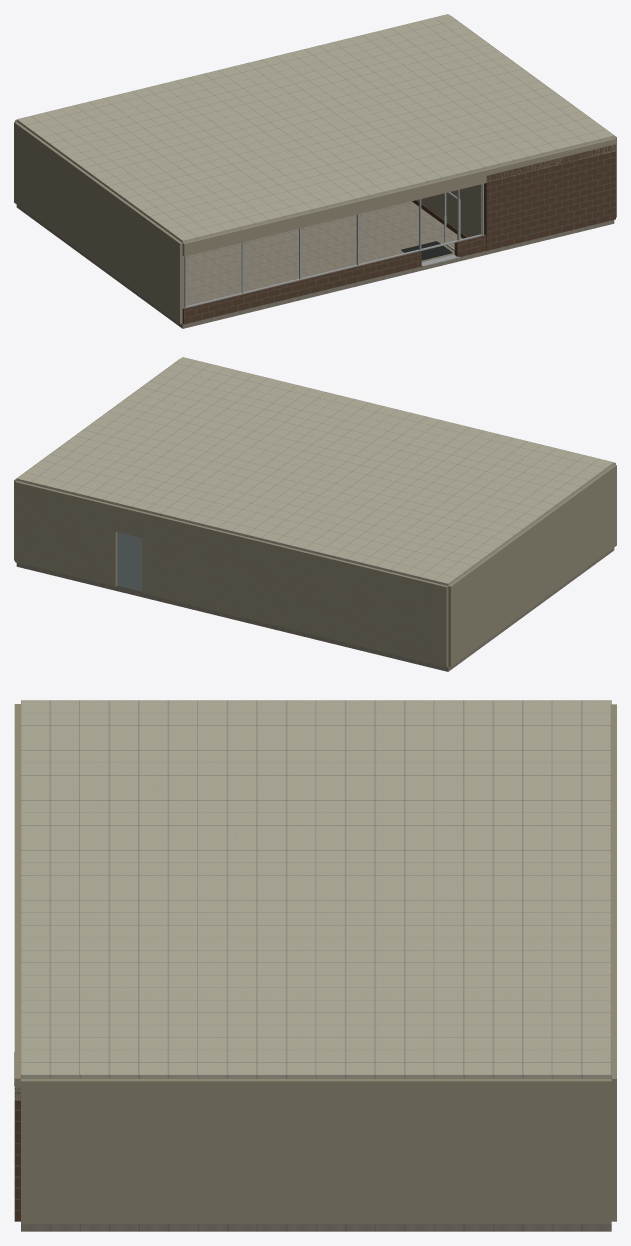
Rendered from shell.glb.
3 views of the same model, one above another, from view 1: azimuth 30°, elevation 25°; view 2: azimuth 150°, elevation 25°; view 3: azimuth 270°, elevation 25° (orthographic). The views are drawn at different scales.
Parts seen in each view (by area): view 1: shell; view 2: shell; view 3: shell.
Part boxes in pixels (x1,y1,x2,y2): shell: (14, 14, 616, 328); shell: (14, 357, 616, 671); shell: (14, 700, 616, 1231).
Size of the model in its own units: 18.22 by 3.51 by 12.25.
Materials: 9 (5 with a texture image).
